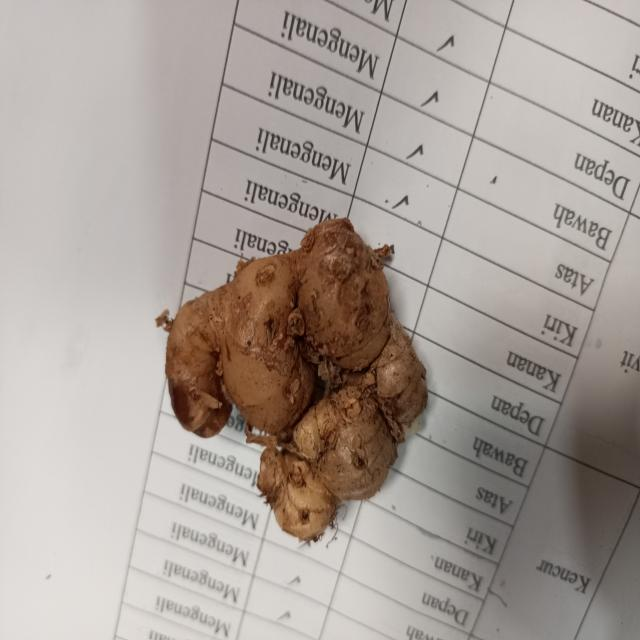ginger: (174, 222, 416, 523)
